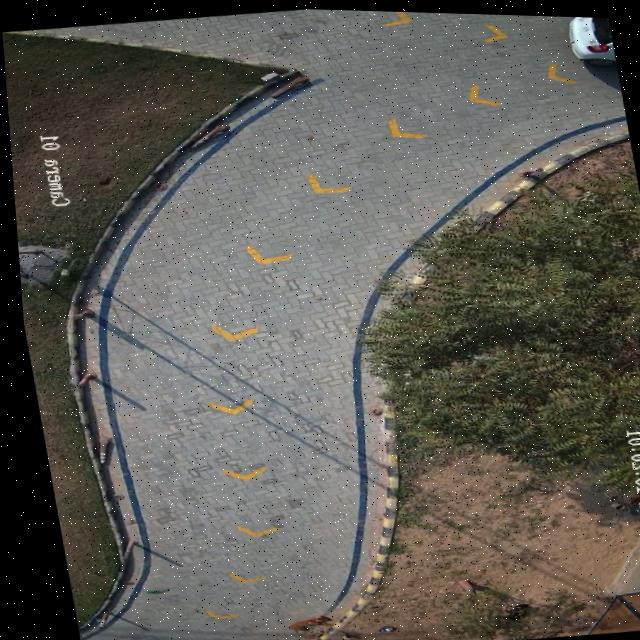car: (568, 13, 614, 61)
